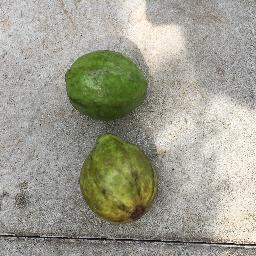Good_guava: (78, 131, 161, 224), (64, 48, 150, 121)
